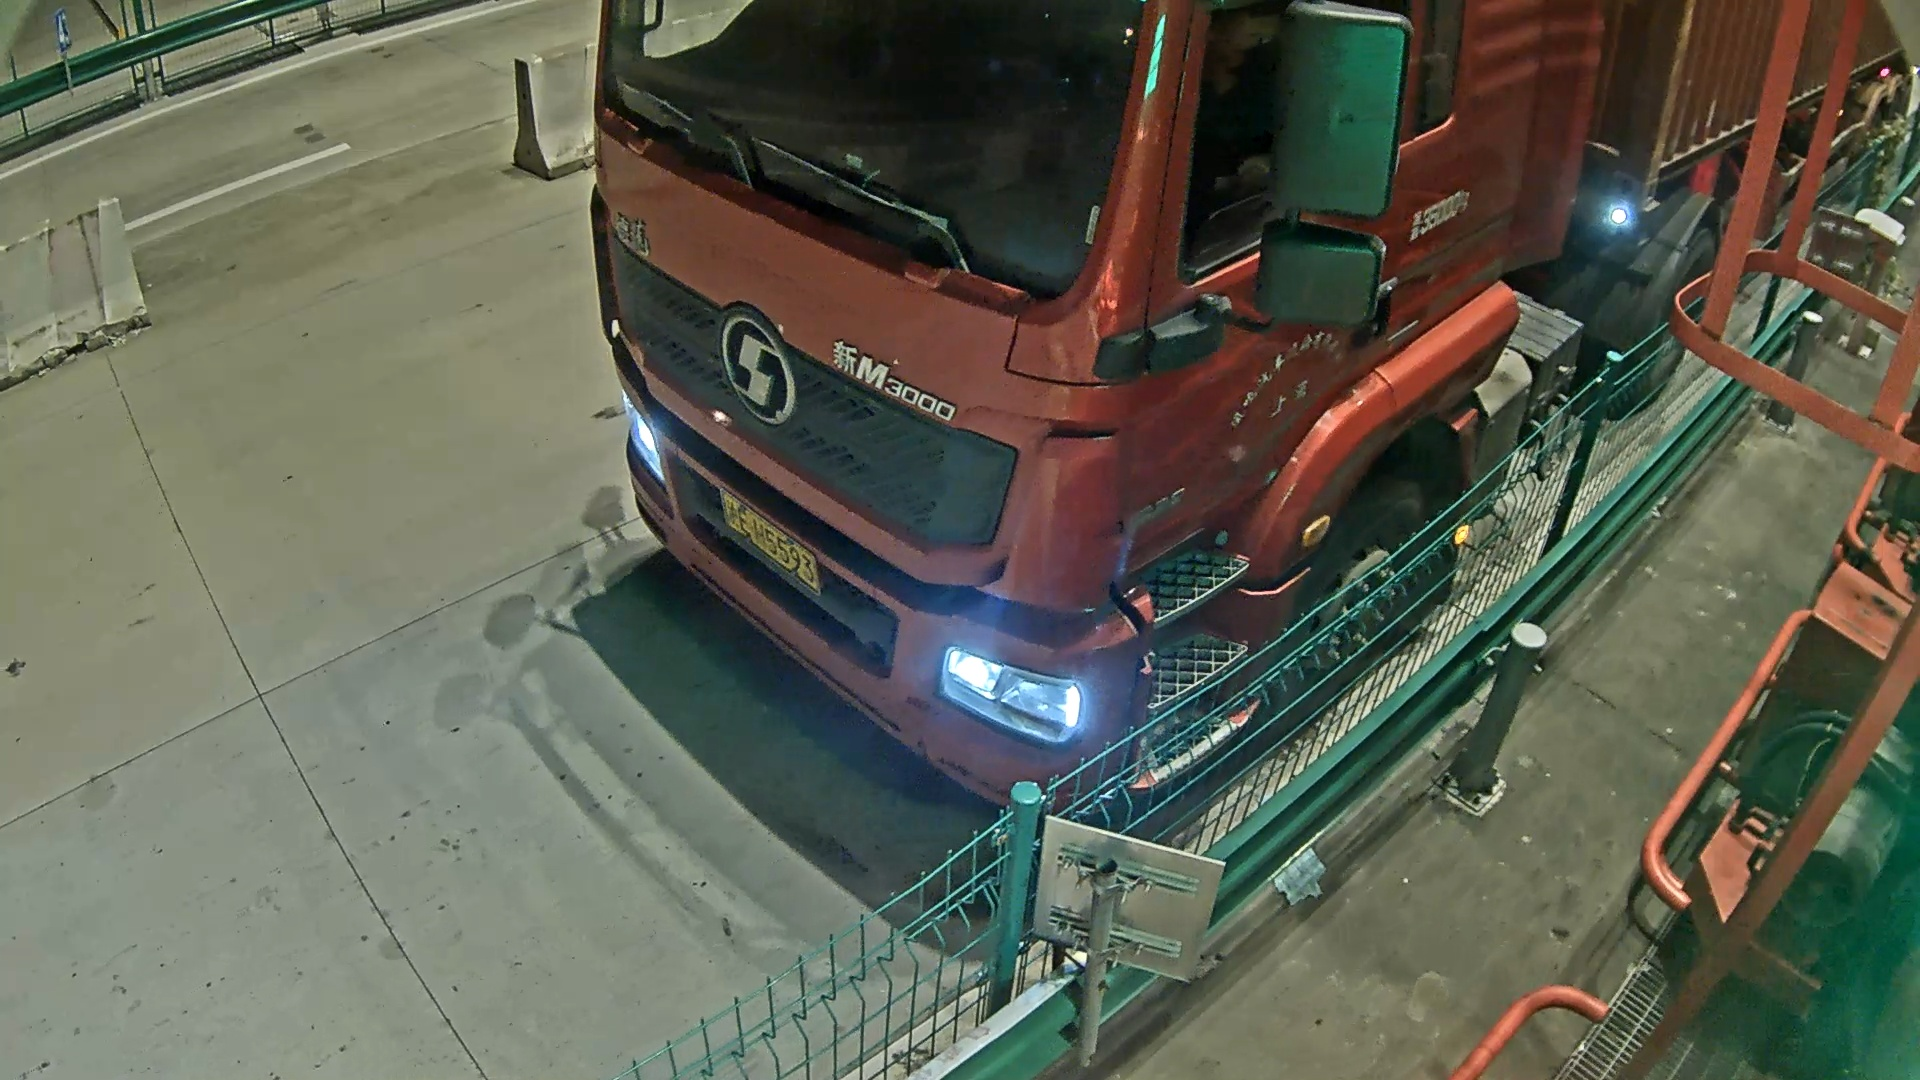head: (599, 1, 1624, 802)
plate: (718, 489, 820, 592)
